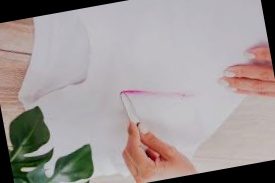lipstick: (117, 75, 194, 103)
